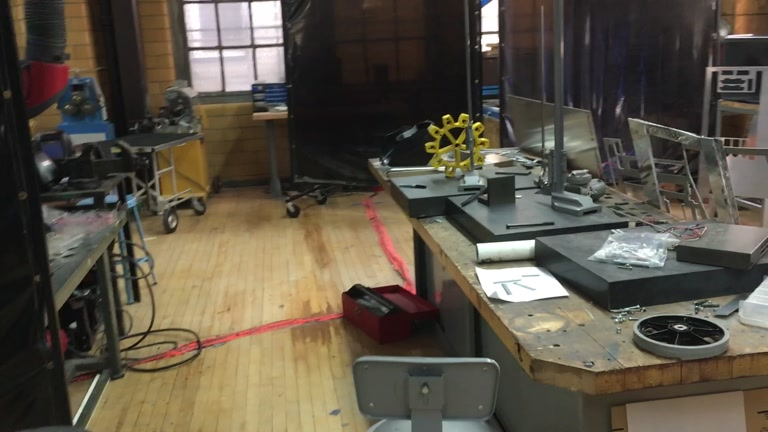gear: (424, 112, 489, 179)
